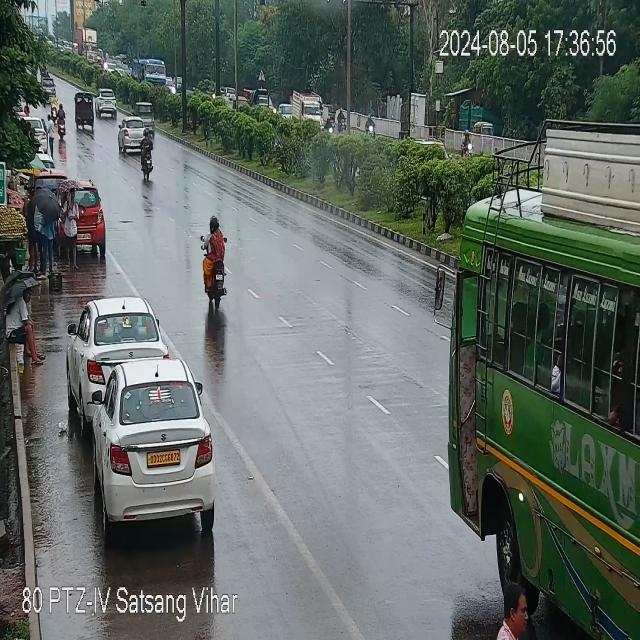2-wheelers: (198, 214, 230, 306), (137, 132, 157, 179), (462, 124, 474, 157), (366, 112, 378, 139), (58, 102, 66, 140), (50, 90, 58, 121), (338, 107, 346, 134)
auto: (74, 90, 96, 136)
bus: (445, 118, 640, 532)
car: (92, 359, 215, 529), (69, 294, 164, 408), (53, 176, 107, 260), (119, 122, 154, 155), (91, 85, 118, 116), (134, 101, 154, 138)
pedestrian: (23, 162, 66, 281), (3, 282, 47, 369), (62, 186, 78, 274), (46, 114, 56, 157)
truck: (132, 54, 167, 85), (294, 88, 322, 123), (76, 24, 99, 63), (244, 78, 273, 108)
